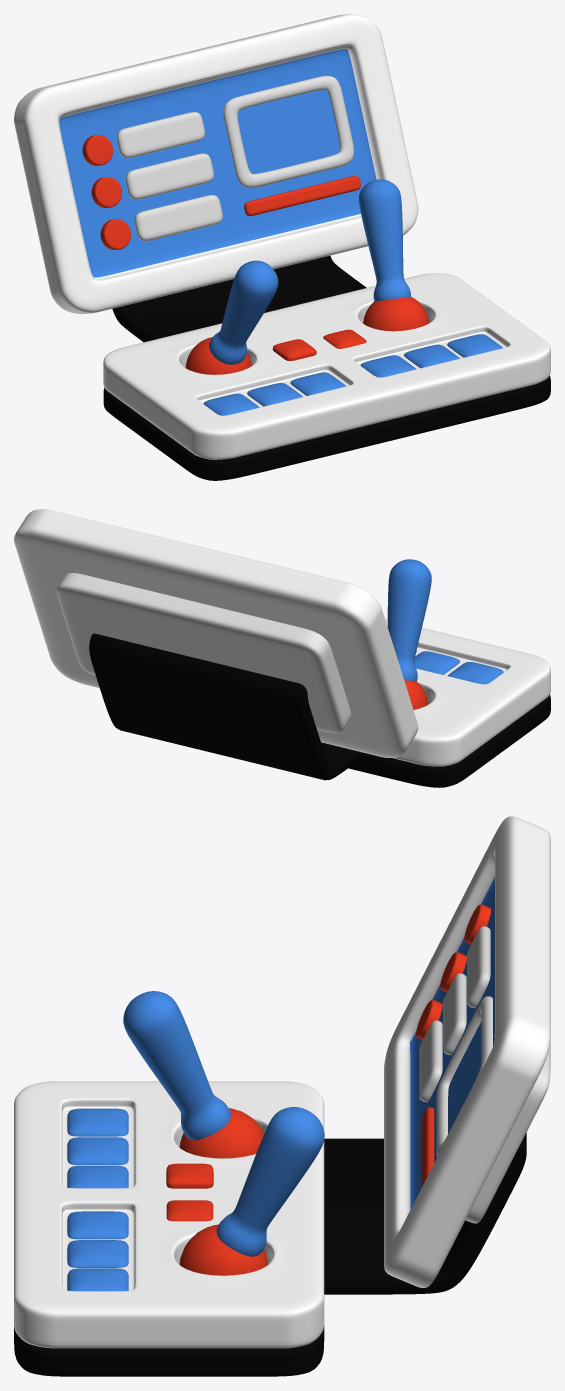
Rendered from robot-controller-3d-animated-icon-651185939986.glb.
3 renders of one model, top to bottom at view 1: azimuth 30°, elevation 25°; view 2: azimuth 150°, elevation 25°; view 3: azimuth 270°, elevation 25°, orthographic. The views are drawn at different scales.
Visible parts, largest first — view 1: Cube.055, Cube.046, Cube.045, NurbsPath.015, Cube.283, Cube.051, Cube.047, Cube.048, Cylinder.004, Cylinder.005, Cylinder.001, Cylinder.404 (+7 smaller); view 2: Cube.055, NurbsPath.015, Cube.056, Cube.046, Cube.045, Cube.048, Cube.051, Sphere.030; view 3: Cube.046, Cube.055, NurbsPath.015, Cube.051, Cube.045, Cube.047, Cube.048, Cube.056, Sphere.028, Cube.283, Sphere.030, Cylinder.001 (+5 smaller).
Boxes of the visible parts, x1,y1,x2,y2 form: Cube.055: [14, 14, 418, 314]; Cube.046: [103, 273, 550, 459]; Cube.045: [103, 375, 550, 480]; NurbsPath.015: [112, 255, 366, 342]; Cube.283: [223, 75, 353, 187]; Cube.051: [203, 334, 502, 415]; Cube.047: [358, 179, 410, 300]; Cube.048: [209, 260, 278, 364]; Cylinder.004: [125, 153, 213, 199]; Cylinder.005: [134, 195, 222, 241]; Cylinder.001: [116, 112, 204, 158]; Cylinder.404: [244, 176, 360, 216]; Cube.055: [14, 509, 418, 757]; NurbsPath.015: [89, 633, 367, 780]; Cube.056: [57, 573, 351, 733]; Cube.046: [385, 618, 550, 766]; Cube.045: [348, 695, 550, 787]; Cube.048: [387, 559, 431, 681]; Cube.051: [414, 651, 503, 684]; Sphere.030: [404, 680, 427, 709]; Cube.046: [14, 1081, 324, 1348]; Cube.055: [384, 816, 550, 1287]; NurbsPath.015: [324, 1132, 526, 1294]; Cube.051: [67, 1108, 128, 1291]; Cube.045: [14, 1326, 324, 1376]; Cube.047: [216, 1107, 324, 1256]; Cube.048: [123, 991, 230, 1140]; Cube.056: [465, 1040, 550, 1223]; Sphere.028: [179, 1224, 268, 1275]; Cube.283: [436, 996, 492, 1156]; Sphere.030: [179, 1108, 264, 1158]; Cylinder.001: [467, 926, 490, 1008].
Size of the model in its own units: 8.06 by 5.56 by 7.83.
